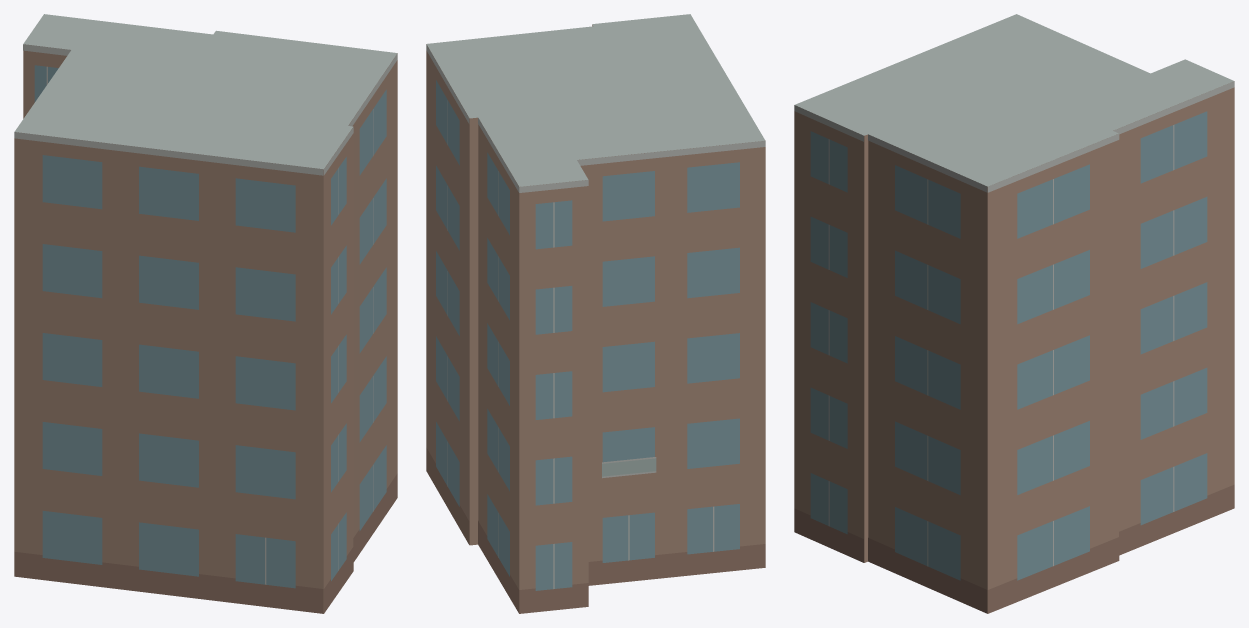
File: survey-upis-32643311.glb
3 views of the same model, side by side, from view 1: azimuth 30°, elevation 25°; view 2: azimuth 150°, elevation 25°; view 3: azimuth 270°, elevation 25° (orthographic). The views are drawn at different scales.
Visible parts, largest first — view 1: survey-upis-32643311.tmp; view 2: survey-upis-32643311.tmp; view 3: survey-upis-32643311.tmp.
Boxes of the visible parts, x1,y1,x2,y2 form: survey-upis-32643311.tmp: (14, 14, 397, 613); survey-upis-32643311.tmp: (426, 14, 765, 613); survey-upis-32643311.tmp: (794, 14, 1234, 613).
Size of the model in its own units: 14.52 by 16.75 by 15.64.
